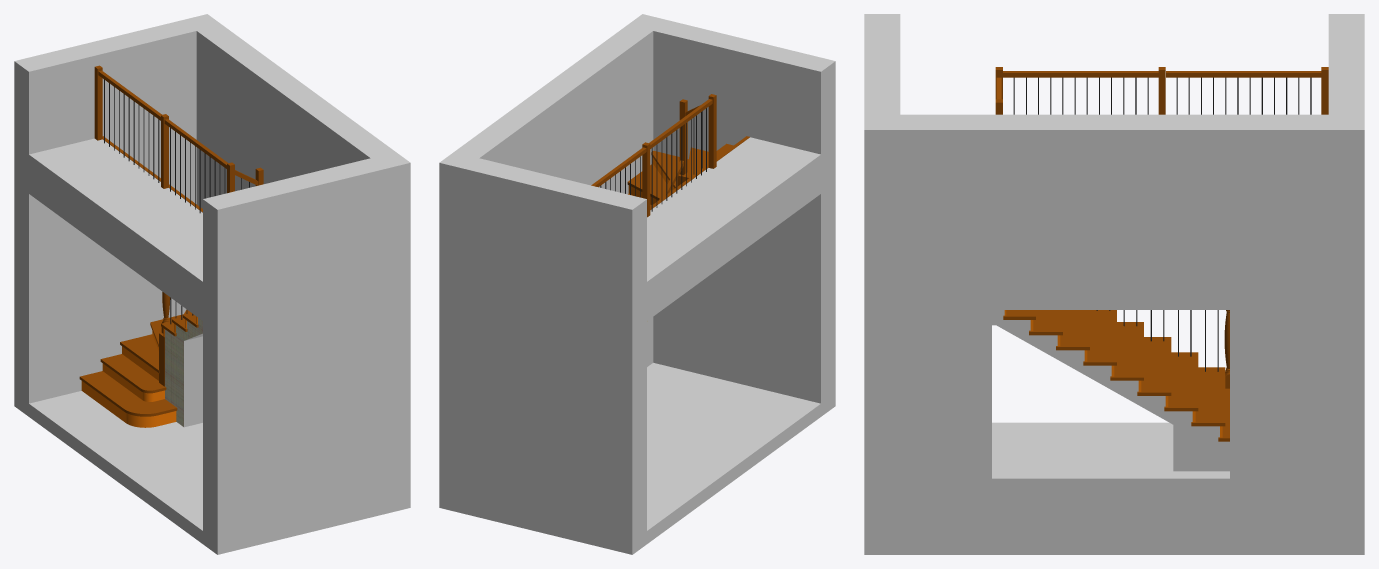
File: Лестница на бетонном основании.obj
3 renders of one model, left to right at view 1: azimuth 30°, elevation 25°; view 2: azimuth 150°, elevation 25°; view 3: azimuth 270°, elevation 25°, orthographic. The views are drawn at different scales.
Bounding box in the file's own units: 3.05 × 5.2 × 5.55.
Materials: 109 (1 with a texture image).
